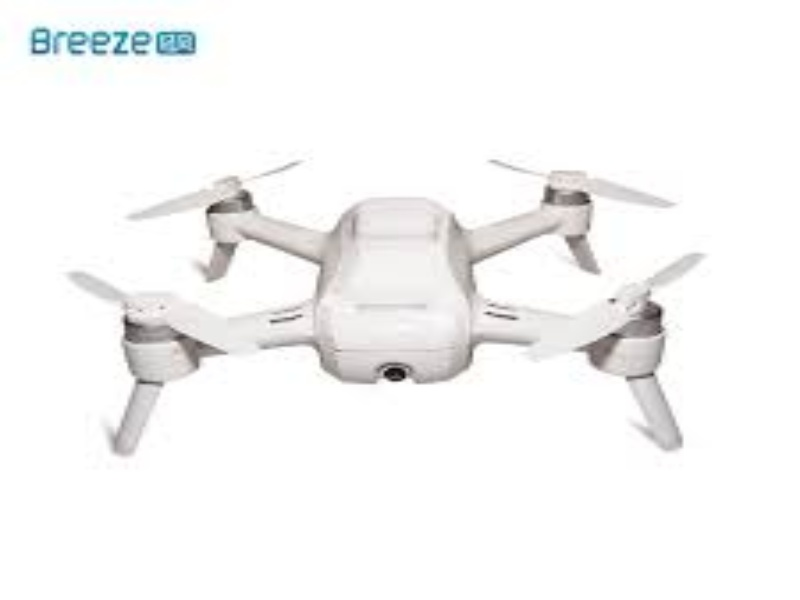drone: (63, 151, 705, 449)
